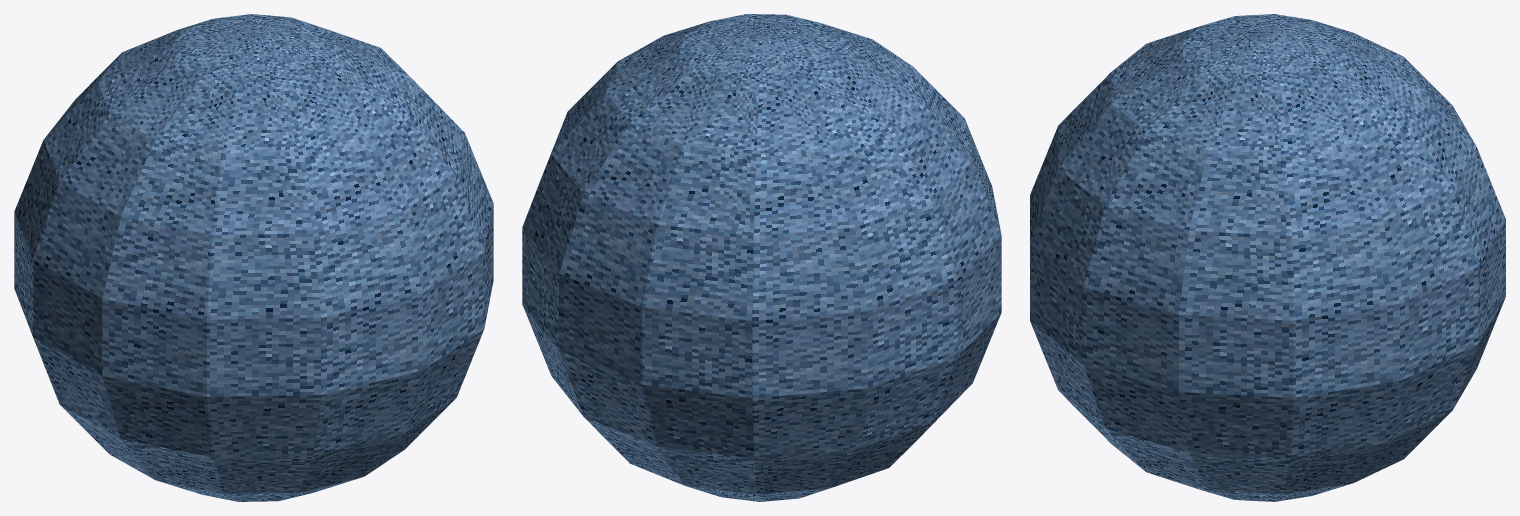
The model's file is YarnBall.fbx.
3 views of the same model, side by side, from view 1: azimuth 30°, elevation 25°; view 2: azimuth 150°, elevation 25°; view 3: azimuth 270°, elevation 25° (orthographic).
Parts seen in each view (by area): view 1: Sphere; view 2: Sphere; view 3: Sphere.
Boxes of the visible parts, x1,y1,x2,y2 form: Sphere: [14, 14, 493, 501]; Sphere: [522, 14, 1001, 501]; Sphere: [1030, 14, 1505, 501].
Size of the model in its own units: 39.11 by 40 by 38.82.
